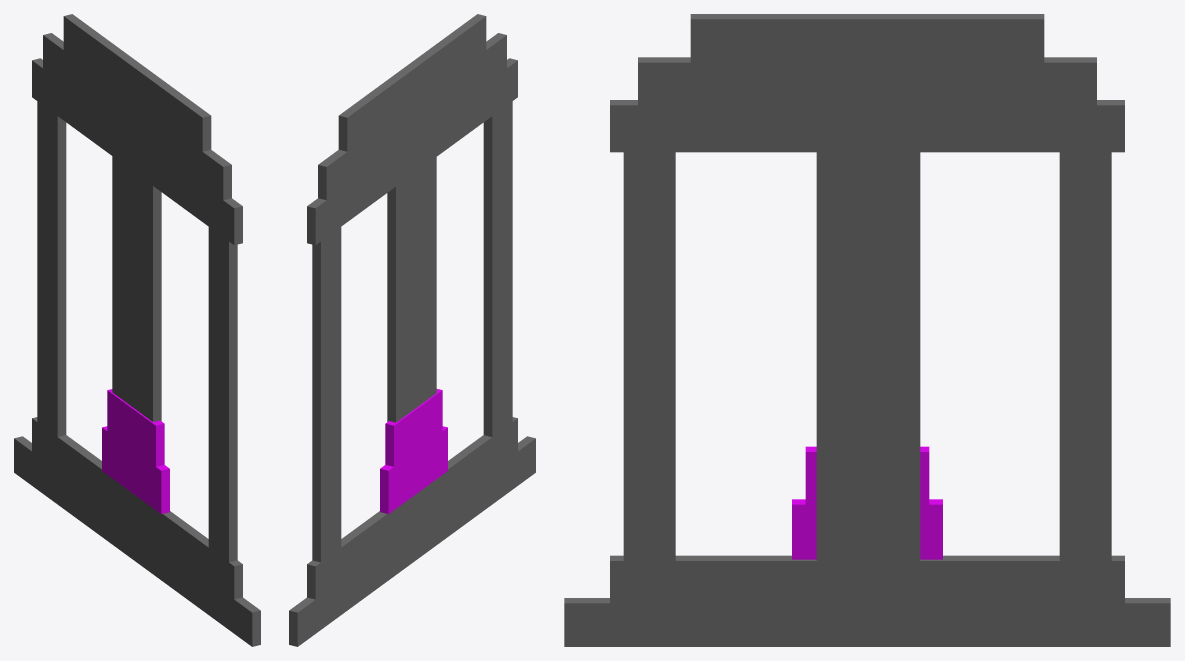
File: Gazeebo_No_Board.FBX
The picture shows the model from 3 angles, left to right: view 1: azimuth 30°, elevation 25°; view 2: azimuth 150°, elevation 25°; view 3: azimuth 270°, elevation 25°; orthographic projection. The views are drawn at different scales.
Visible parts, largest first — view 1: Box020, Box021, Box019, Box025, Box024, Box018, Box017, Box016, Box023, Box022; view 2: Box020, Box019, Box021, Box025, Box024, Box017, Box018, Box016, Box023, Box022; view 3: Box020, Box025, Box021, Box019, Box024, Box017, Box016, Box018, Box023, Box022.
Boxes of the visible parts, box(x1,y1,x2,y2) form: Box020: box(112, 124, 161, 519); Box021: box(37, 69, 66, 449); Box019: box(208, 197, 237, 574); Box025: box(14, 436, 260, 646); Box024: box(32, 417, 242, 599); Box018: box(32, 58, 242, 245); Box017: box(43, 33, 231, 202); Box016: box(63, 14, 211, 154); Box023: box(102, 426, 169, 513); Box022: box(107, 389, 164, 468); Box020: box(387, 125, 436, 520); Box019: box(483, 69, 512, 449); Box021: box(312, 194, 341, 574); Box025: box(289, 436, 535, 646); Box024: box(307, 417, 517, 602); Box017: box(318, 33, 506, 202); Box018: box(307, 58, 517, 245); Box016: box(338, 14, 486, 154); Box023: box(380, 426, 447, 513); Box022: box(385, 389, 442, 468); Box020: box(816, 110, 920, 577); Box025: box(564, 598, 1170, 646); Box021: box(1059, 110, 1111, 577); Box019: box(623, 110, 675, 577); Box024: box(610, 555, 1124, 607); Box017: box(638, 57, 1096, 109); Box016: box(690, 14, 1044, 66); Box018: box(610, 100, 1124, 152); Box023: box(792, 499, 942, 559); Box022: box(805, 446, 929, 507).
Size of the model in its own units: 1.54 by 70.6 by 61.82.
